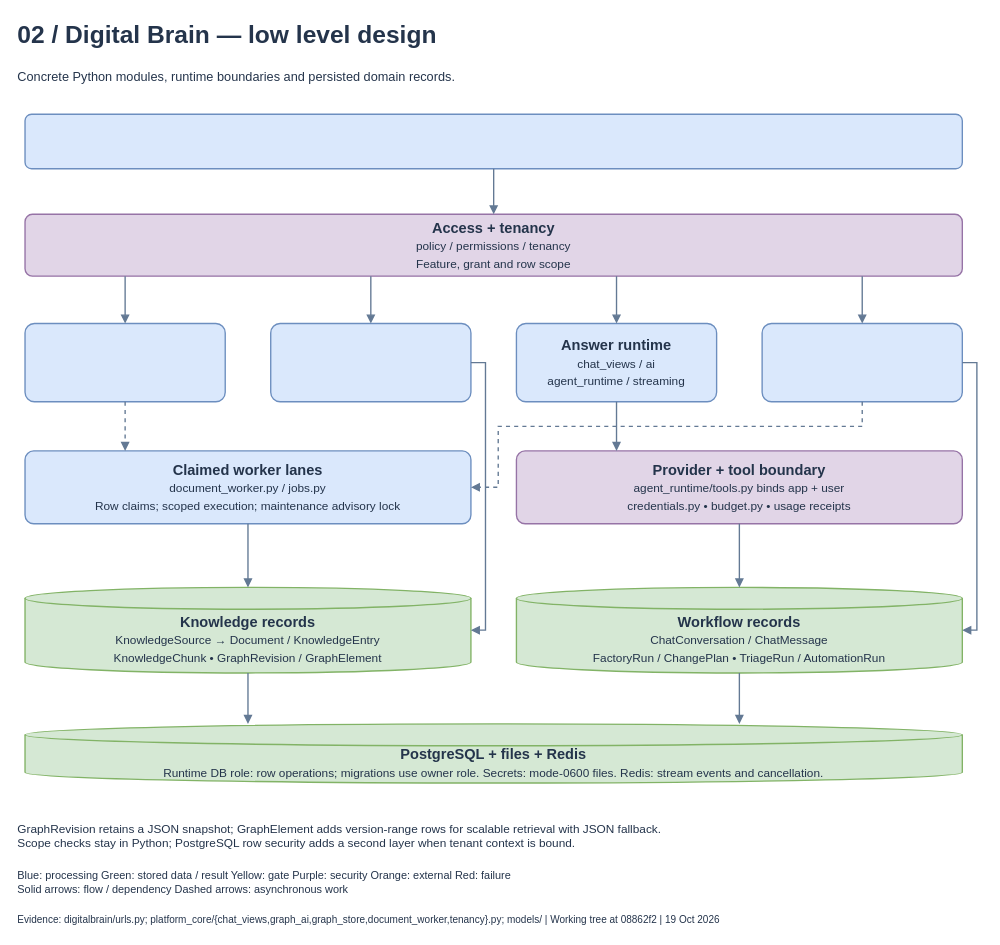
Some shapes in this 1000 by 945 pixel diagram are drawn without their labels. Here are the shapes that lost their labels. From the top down, the centre of each, then its label:
At point (493, 141): "HTTP entry urls.py → views / api.py / mcp".
At point (124, 362): "Source pipeline documents / processing connectors / chunks".
At point (370, 362): "Graph pipeline graphs / graph_ai graph_store / embeddings".
At point (862, 362): "Domain workflows code_factory_* / serviceops_* automation_execution".
